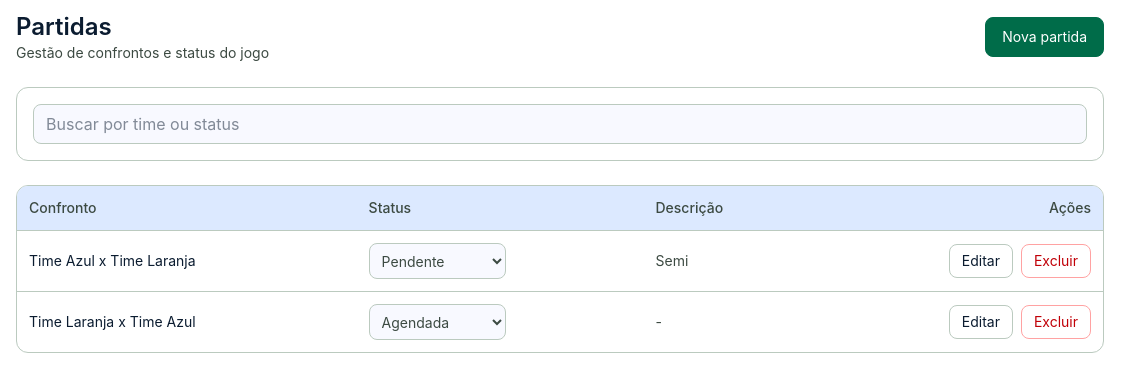
it: MatchesPage › deve filtrar por status pending
Type "pending" into the field with placeholder "Buscar por time ou status".
click(560, 124); type("pending")  # box [33,104,1087,144]
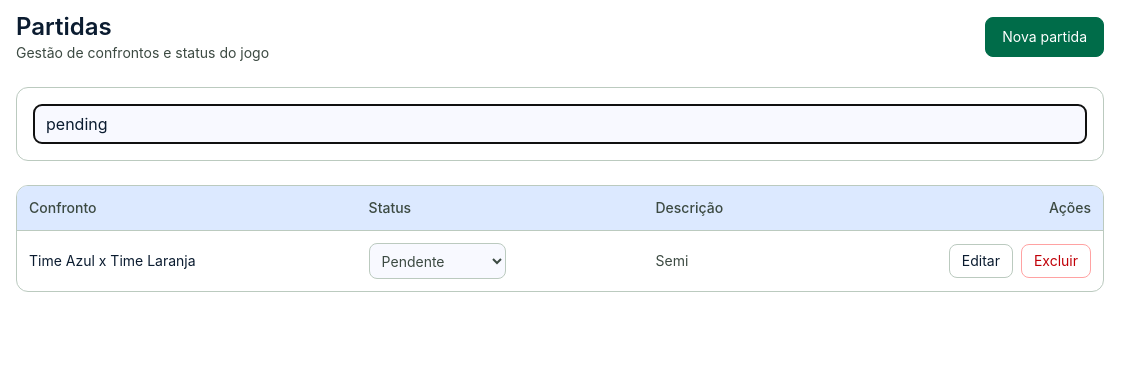
Expected: the text "Time Azul x Time Laranja" is shown, [17,230,357,291]
Expected: the text "Time Laranja x Time Azul" is gone
